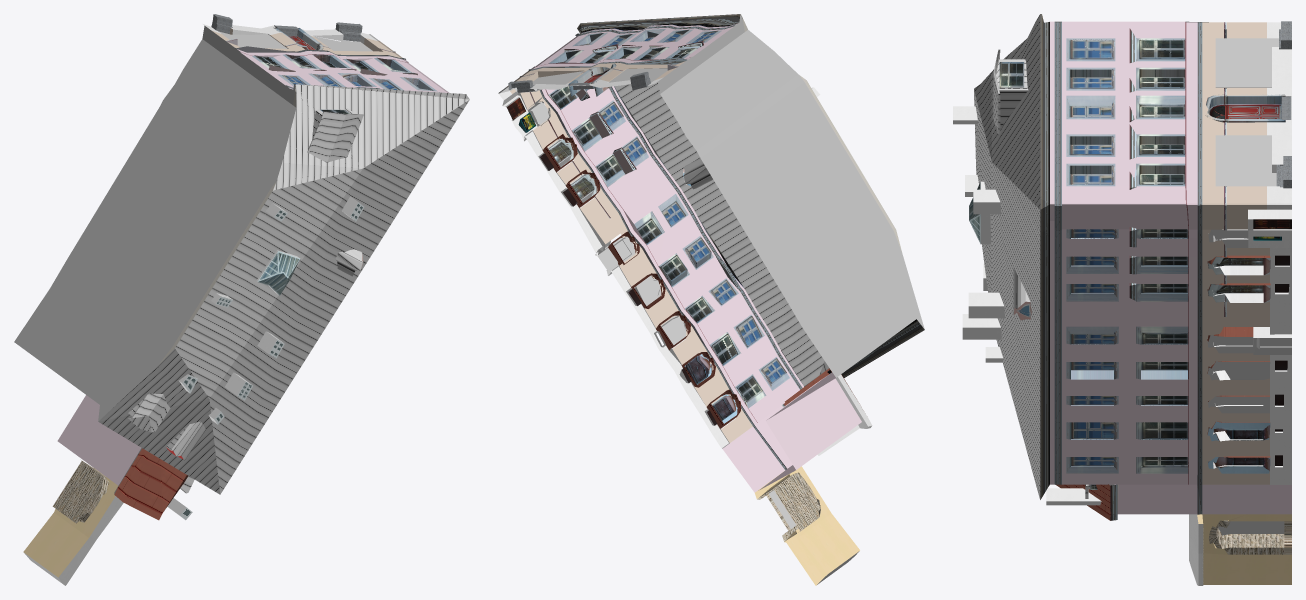
The model's file is Viru_16-origo.obj.
3 renders of one model, left to right at view 1: azimuth 30°, elevation 25°; view 2: azimuth 150°, elevation 25°; view 3: azimuth 270°, elevation 25°, orthographic. The views are drawn at different scales.
Parts seen in each view (by area): view 1: viru16, xxx; view 2: viru16, xxx; view 3: viru16.
Boxes of the visible parts, left/top/right/bottom form: viru16: left=23, top=14, right=469, bottom=585; xxx: left=14, top=25, right=296, bottom=585; viru16: left=498, top=14, right=924, bottom=585; xxx: left=658, top=14, right=924, bottom=584; viru16: left=953, top=14, right=1291, bottom=585.
Bounding box in the file's own units: 30.25 × 39 × 17.47.
